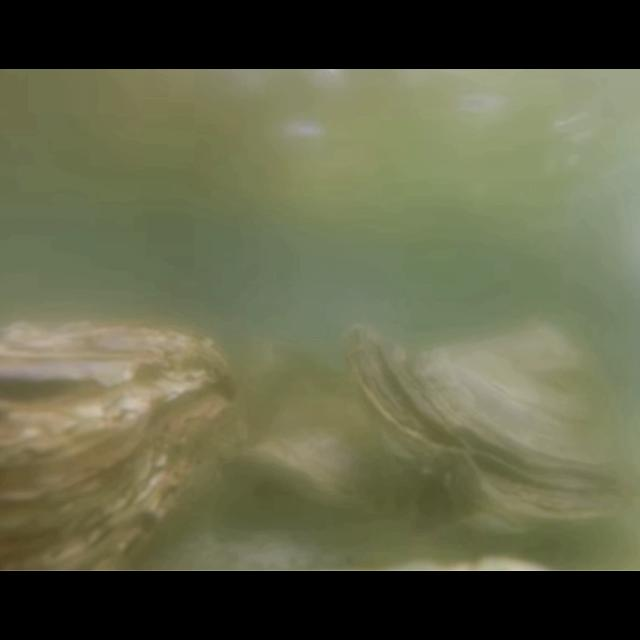Oyster-Closed: (340, 320, 640, 542), (0, 318, 254, 571)
Oyster-Indeterminate: (232, 392, 392, 514)
